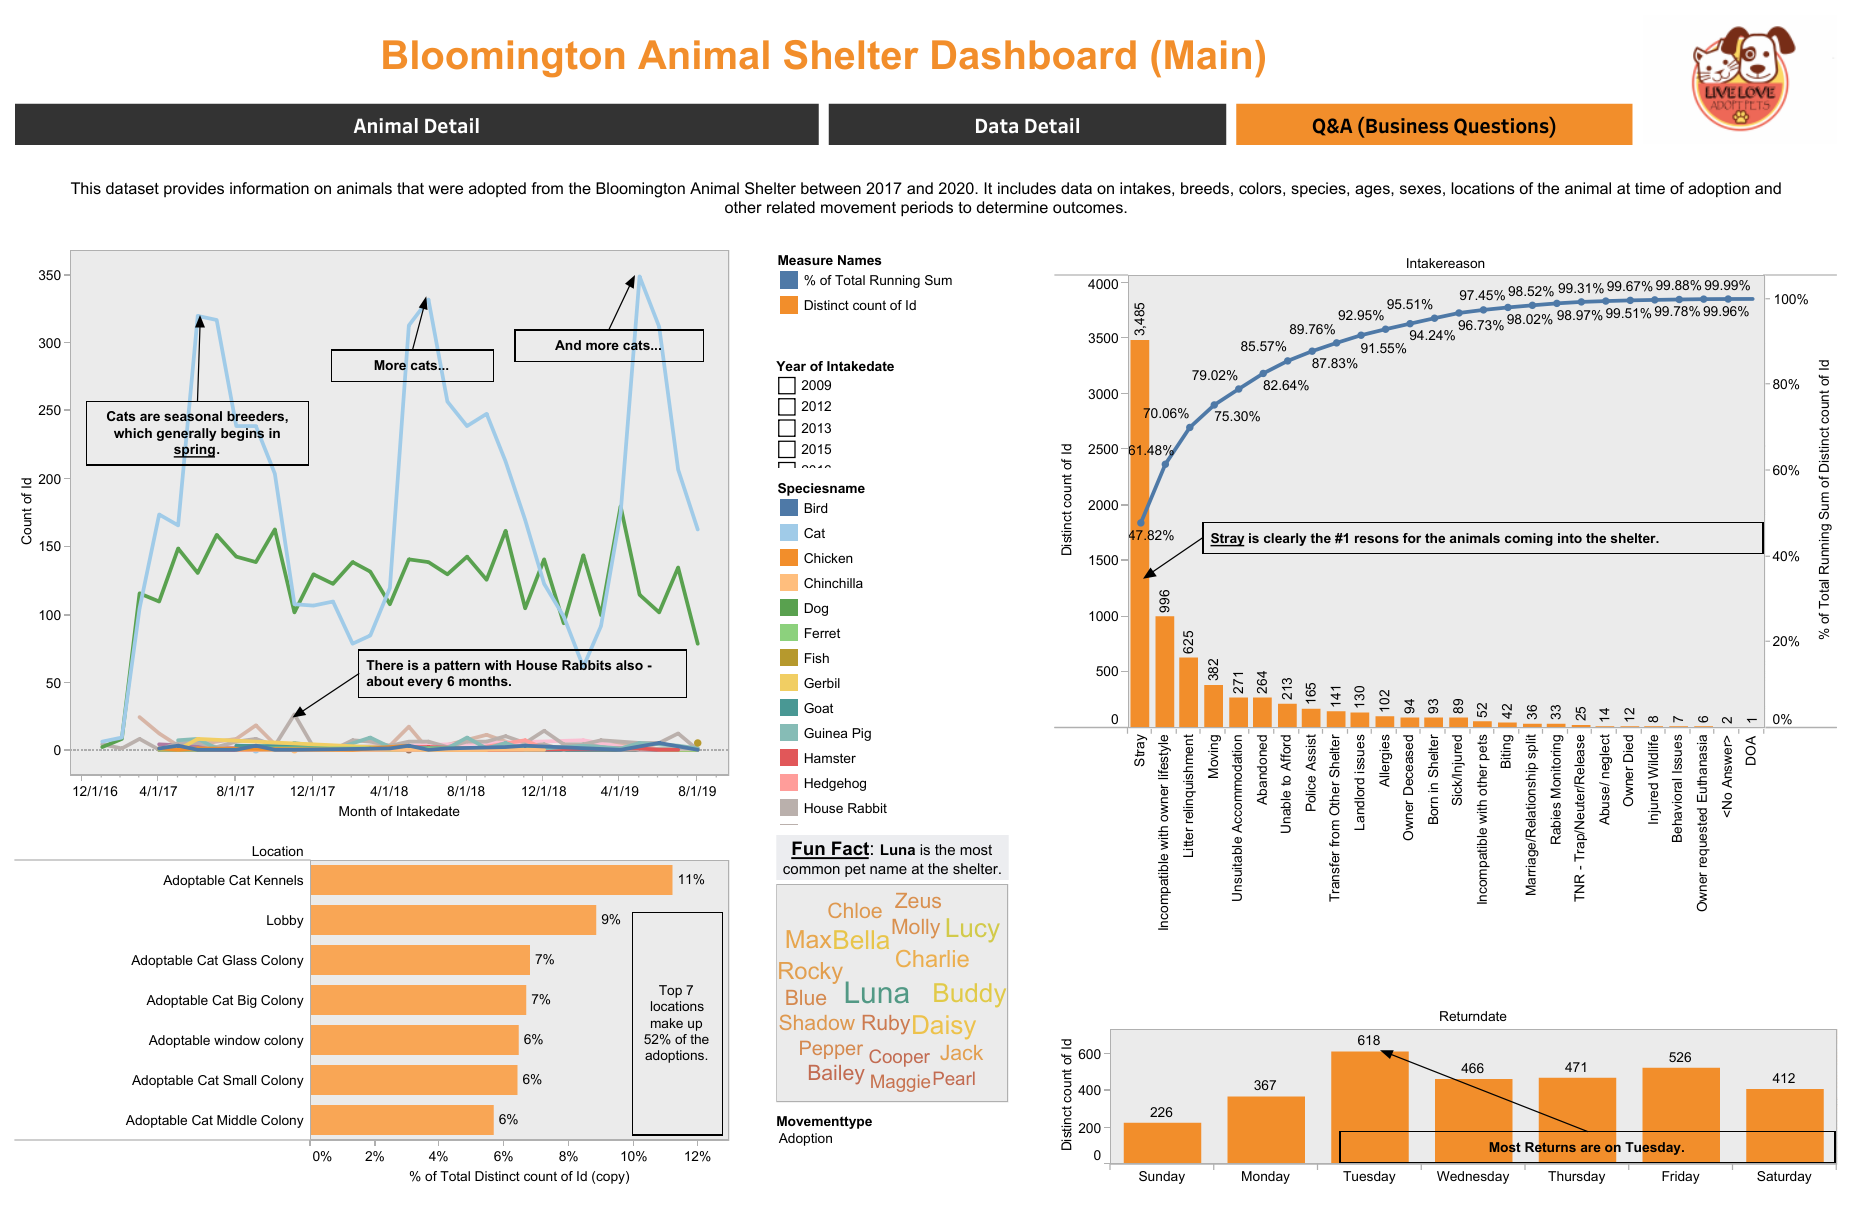

Layout of this report page (visuals, bound fields, positions):
{"tool":"tableau","page":{"name":"DashboardMain","canvas":[1000,1000],"units":"permille","ordinal":2},"visuals":[{"type":"text","box":[4.9,9.4,879.4,74]},{"type":"image","param":"Image/cropped-LLAPETS-LOGO-2-1.png","box":[884.3,9.4,110.8,116.2]},{"type":"dashboard-object","box":[4.9,83.4,439.7,42.3]},{"type":"dashboard-object","box":[444.6,83.4,219.8,42.3]},{"type":"dashboard-object","box":[664.5,83.4,219.8,42.3]},{"type":"blank","box":[4.9,125.7,19.7,78.8]},{"type":"text","box":[24.6,125.7,950.8,78.8]},{"type":"blank","box":[975.4,125.7,19.7,78.8]},{"type":"worksheet","title":"IntakeDate","mark":"Automatic","rows":["id"],"cols":["intakedate"],"box":[4.9,204.5,391.7,484.1]},{"type":"blank","box":[396.7,204.5,19.7,786.1]},{"type":"legend","title":"ReasonInt","param":"[federated.0cm41il1nn5mlk1ei0d441y2iy9r].[:Measure Names]","box":[416.3,204.5,131,88.8]},{"type":"blank","box":[547.4,204.5,19.7,786.1]},{"type":"worksheet","title":"ReasonInt","mark":"Automatic","rows":["id","id"],"cols":["intakereason"],"box":[567,204.5,428.1,624]},{"type":"filter","title":"IntakeDate","param":"[federated.0cm41il1nn5mlk1ei0d441y2iy9r].[yr:intakedate:ok]","box":[416.3,293.3,131,99.6]},{"type":"legend","title":"IntakeDate","param":"[federated.0cm41il1nn5mlk1ei0d441y2iy9r].[none:speciesname:nk]","box":[416.3,392.9,131,295.7]},{"type":"worksheet","title":"Location","mark":"Automatic","rows":["location"],"cols":["Id (copy)_1092685897127677958"],"box":[4.9,688.5,391.7,302.1]},{"type":"worksheet","title":"NameT20","mark":"Text","box":[416.3,688.5,131,229.2]},{"type":"worksheet","title":"ReturnDOW","mark":"Bar","rows":["id"],"cols":["returndate"],"box":[567,828.4,428.1,162.2]},{"type":"filter","title":"Location","param":"[federated.0cm41il1nn5mlk1ei0d441y2iy9r].[none:movementtype:nk]","box":[416.3,917.7,131,72.9]}]}

Visuals, with their boxes on the dashboard's canvas, which has no fixed pixel size, in thousandths of its width and height (x1, y1, x2, y2). These are canvas units, not pixel positions in the 1853x1205 screenshot, which may show the page scaled, cropped or inside an application window:
text: rect(5, 9, 884, 83)
image: rect(884, 9, 995, 126)
dashboard-object: rect(5, 83, 445, 126)
dashboard-object: rect(445, 83, 664, 126)
dashboard-object: rect(664, 83, 884, 126)
blank: rect(5, 126, 25, 204)
text: rect(25, 126, 975, 204)
blank: rect(975, 126, 995, 204)
"IntakeDate" worksheet: rect(5, 204, 397, 689)
blank: rect(397, 204, 416, 991)
"ReasonInt" legend: rect(416, 204, 547, 293)
blank: rect(547, 204, 567, 991)
"ReasonInt" worksheet: rect(567, 204, 995, 828)
"IntakeDate" filter: rect(416, 293, 547, 393)
"IntakeDate" legend: rect(416, 393, 547, 689)
"Location" worksheet: rect(5, 688, 397, 991)
"NameT20" worksheet (Text marks): rect(416, 688, 547, 918)
"ReturnDOW" worksheet (Bar marks): rect(567, 828, 995, 991)
"Location" filter: rect(416, 918, 547, 991)
